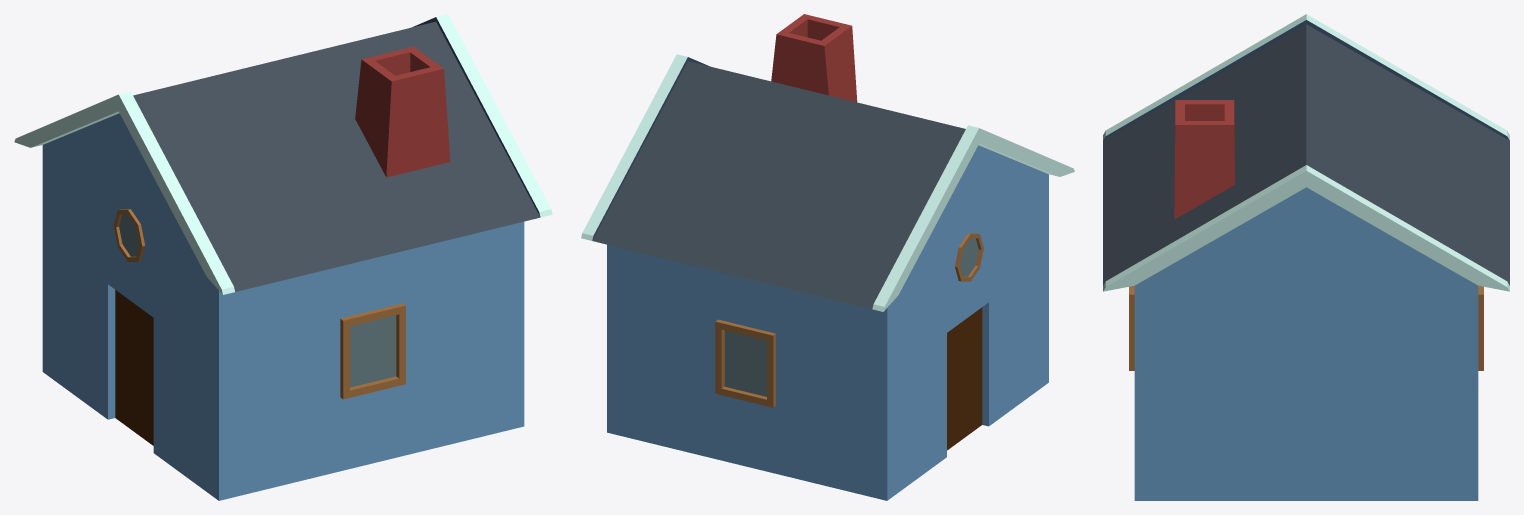
File: cuteLilHouse.glb
3 renders of one model, left to right at view 1: azimuth 30°, elevation 25°; view 2: azimuth 150°, elevation 25°; view 3: azimuth 270°, elevation 25°, orthographic. The views are drawn at different scales.
Visible parts, largest first — view 1: Plane; view 2: Plane; view 3: Plane.
Boxes of the visible parts, box(x1,y1,x2,y2) form: Plane: box(14, 14, 552, 500); Plane: box(581, 14, 1074, 500); Plane: box(1103, 14, 1509, 500).
Bounding box in the file's own units: 2.16 × 2.24 × 2.37.
1 material, 1 textured.
